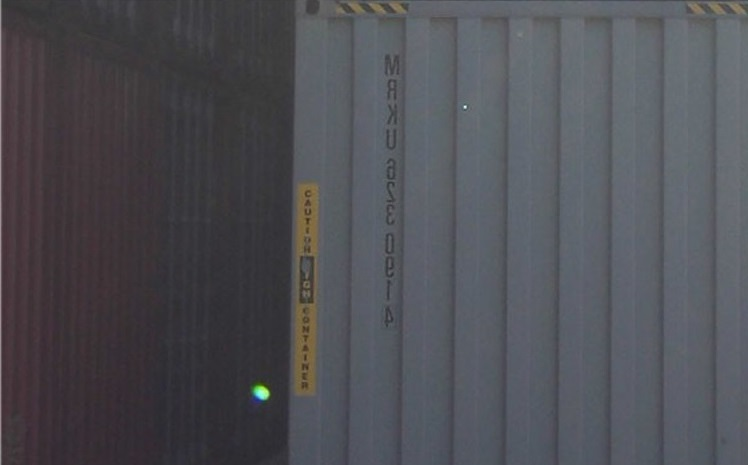container_no_door: (294, 7, 737, 458)
